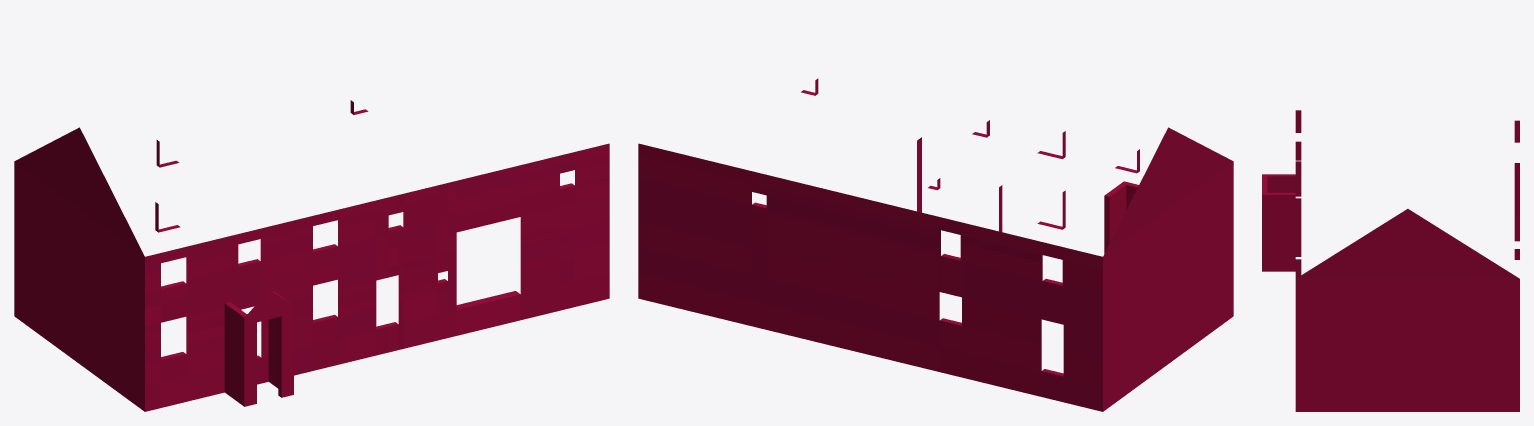
Rendered from SM_Bld_036_Masonry.glb.
3 views of the same model, side by side, from view 1: azimuth 30°, elevation 25°; view 2: azimuth 150°, elevation 25°; view 3: azimuth 270°, elevation 25° (orthographic). The views are drawn at different scales.
Visible parts, largest first — view 1: SM_Bld_036_Masonry; view 2: SM_Bld_036_Masonry; view 3: SM_Bld_036_Masonry.
Part boxes in pixels (x1,y1,x2,y2): SM_Bld_036_Masonry: (14, 100, 609, 411); SM_Bld_036_Masonry: (638, 78, 1233, 411); SM_Bld_036_Masonry: (1262, 110, 1519, 411).
Size of the model in its own units: 18.8 by 9.16 by 10.53.
